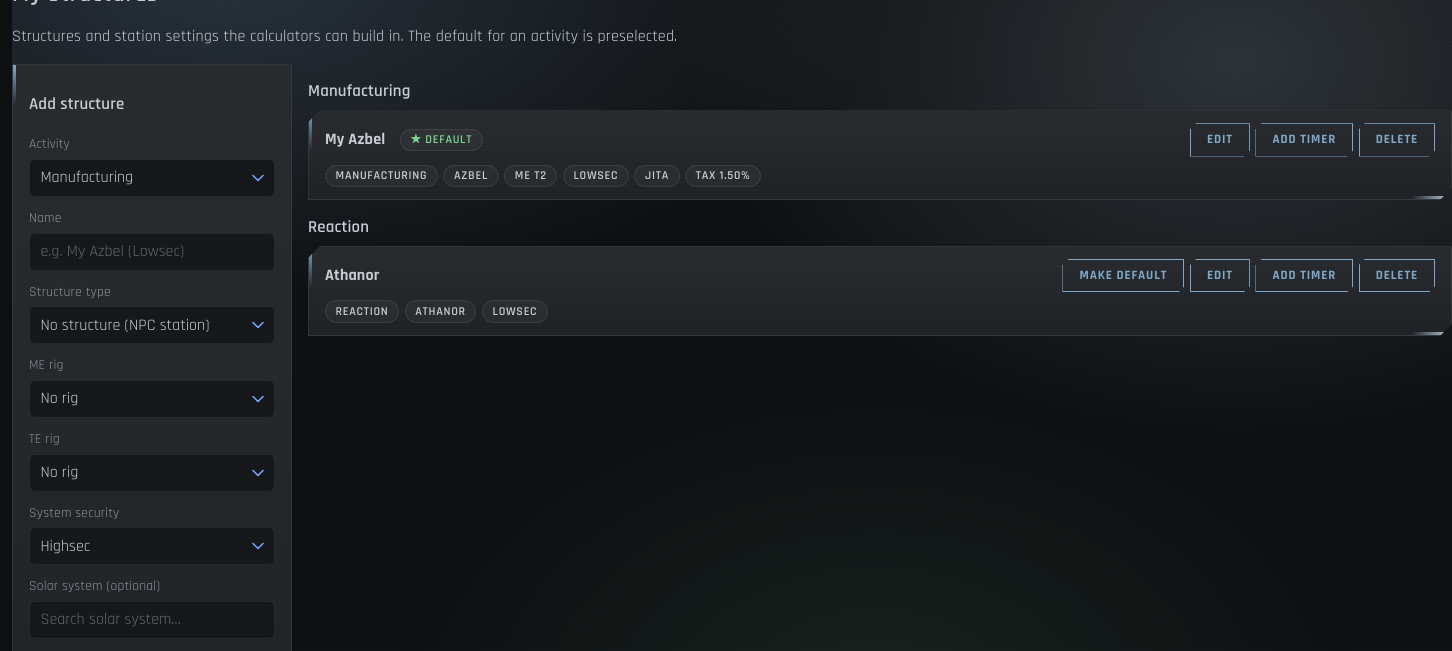
Test: Structures › opens a prefilled timer form on each card and posts the timer
Click the button "Add timer" in the row of "★ Default".
click(1304, 140)  # box [1256,123,1353,156]
(page scrolled)
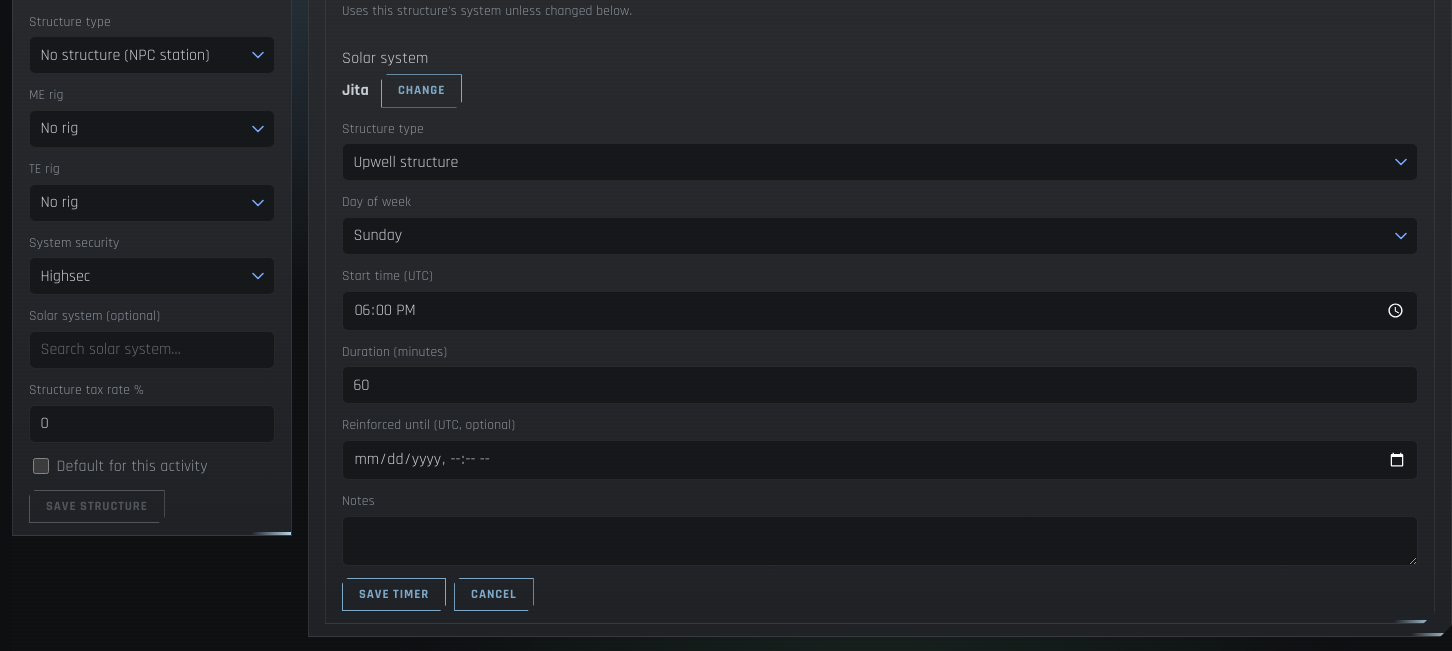
Now the text "Jita" is shown, box [342,79,369,102]
Now the time field labelled "Start time (UTC)" holds "18:00", box [342,291,1418,331]
Click the button "Save timer".
click(394, 594)  # box [342,578,446,611]
(page scrolled)
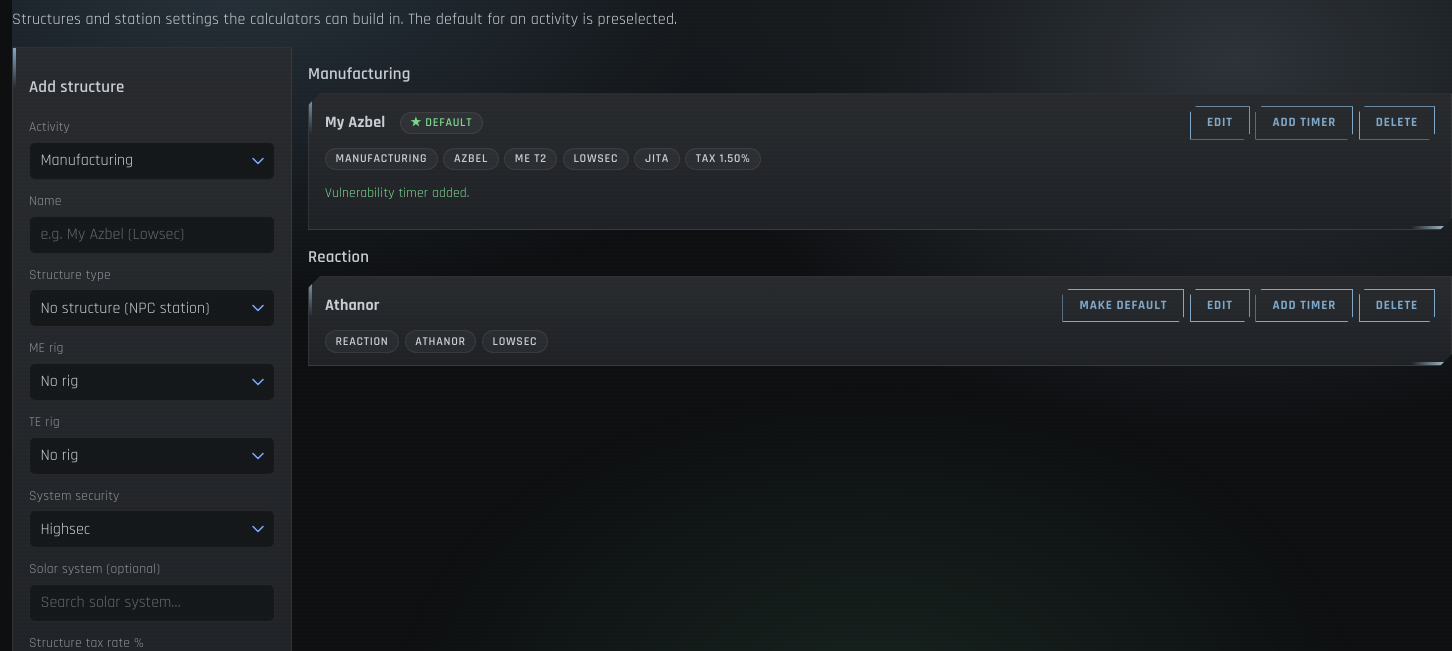
Now the message reads "Vulnerability timer added.", box [325,184,470,202]
